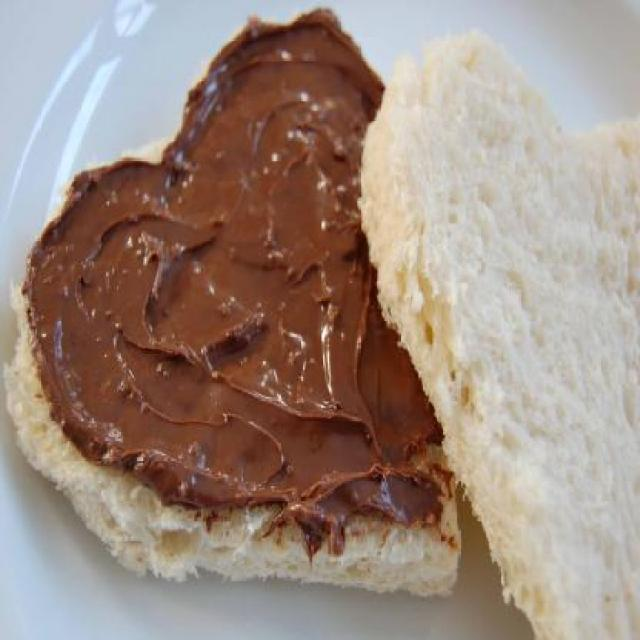Spread: (41, 16, 427, 552)
